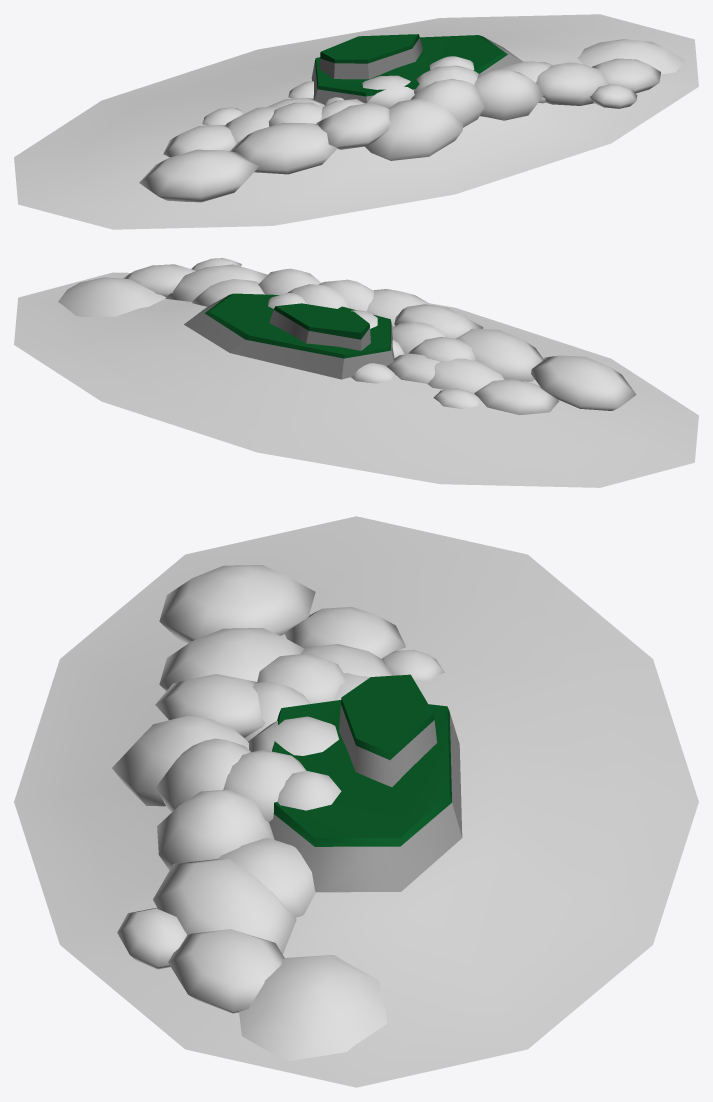
The model's file is Obj_island.FBX.
3 renders of one model, top to bottom at view 1: azimuth 30°, elevation 25°; view 2: azimuth 150°, elevation 25°; view 3: azimuth 270°, elevation 25°, orthographic. The views are drawn at different scales.
Visible parts, largest first — view 1: sand, tree3, tree008, tree2, cliff, cliff2; view 2: sand, tree3, tree008, cliff, tree2, cliff2; view 3: sand, tree008, tree3, cliff, tree2, cliff2.
Part boxes in pixels (left/top/right/bottom): sand: left=14, top=14, right=698, bottom=229; tree3: left=139, top=75, right=414, bottom=202; tree008: left=414, top=39, right=684, bottom=120; tree2: left=316, top=78, right=484, bottom=160; cliff: left=311, top=35, right=522, bottom=103; cliff2: left=319, top=34, right=422, bottom=79; sand: left=14, top=272, right=698, bottom=487; tree3: left=351, top=310, right=636, bottom=414; tree008: left=58, top=258, right=351, bottom=316; cliff: left=184, top=293, right=394, bottom=379; tree2: left=319, top=279, right=483, bottom=358; cliff2: left=269, top=303, right=370, bottom=350; sand: left=14, top=516, right=698, bottom=1087; tree008: left=117, top=749, right=386, bottom=1061; tree3: left=159, top=565, right=444, bottom=755; cliff: left=269, top=700, right=462, bottom=892; tree2: left=112, top=674, right=310, bottom=811; cliff2: left=339, top=674, right=437, bottom=786.
Size of the model in its own units: 107 by 54.31 by 9.66.
